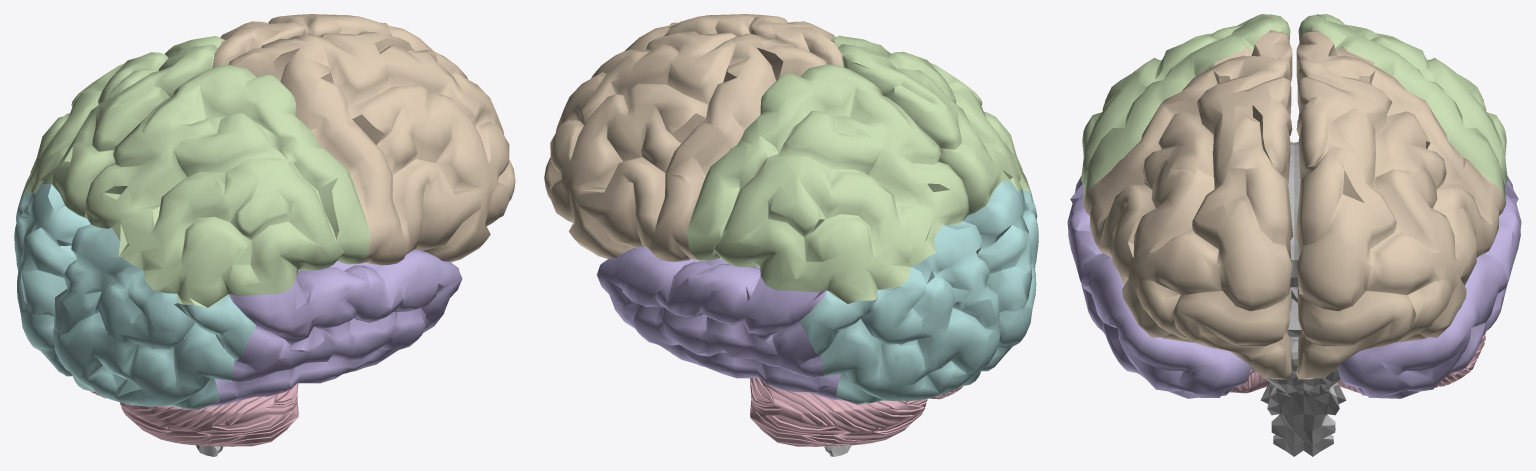
The model's file is Brain.FBX.
3 renders of one model, left to right at view 1: azimuth 30°, elevation 25°; view 2: azimuth 150°, elevation 25°; view 3: azimuth 270°, elevation 25°, orthographic. The views are drawn at different scales.
Parts seen in each view (by area): view 1: pariet, frontal, occipit, temp, cereb; view 2: pariet, frontal, occipit, temp, cereb; view 3: frontal, temp, pariet, stem, corpus, cereb.
Part boxes in pixels (x1,y1,x2,y2): pariet: [22, 36, 370, 307]; frontal: [212, 14, 515, 265]; occipit: [14, 183, 256, 409]; temp: [205, 250, 462, 407]; cereb: [90, 383, 298, 446]; pariet: [687, 35, 1030, 303]; frontal: [544, 14, 843, 261]; occipit: [799, 181, 1038, 404]; temp: [597, 246, 846, 401]; cereb: [750, 378, 963, 446]; frontal: [1083, 30, 1505, 379]; temp: [1067, 176, 1521, 398]; pariet: [1081, 14, 1507, 203]; stem: [1251, 287, 1346, 456]; corpus: [1288, 142, 1300, 287]; cereb: [1230, 332, 1485, 393].
Bounding box in the file's own units: 16.31 × 14.27 × 13.41.
